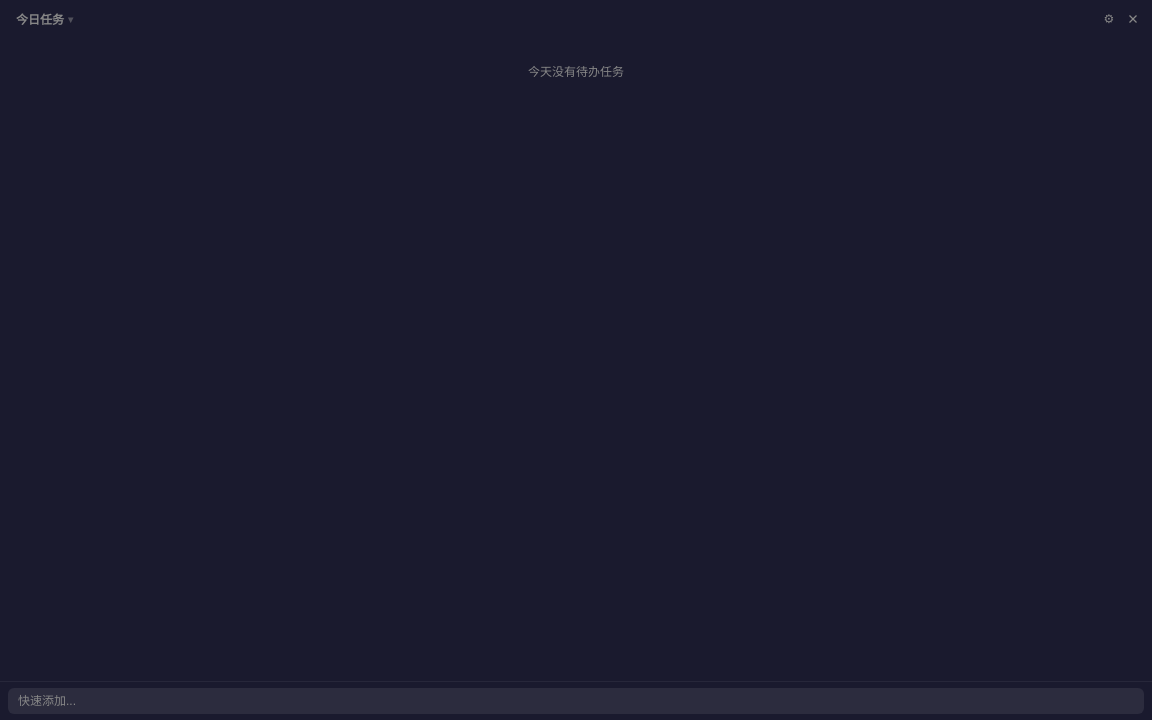
Scenario: WidgetView.vue › filter › shows filter dropdown when clicking filter label
What coordinates should you click on to do the following:
click the element with class "filter-dropdown"
I would click on:
 (44, 20)
Its box is top-left (16, 13), bottom-right (73, 27).
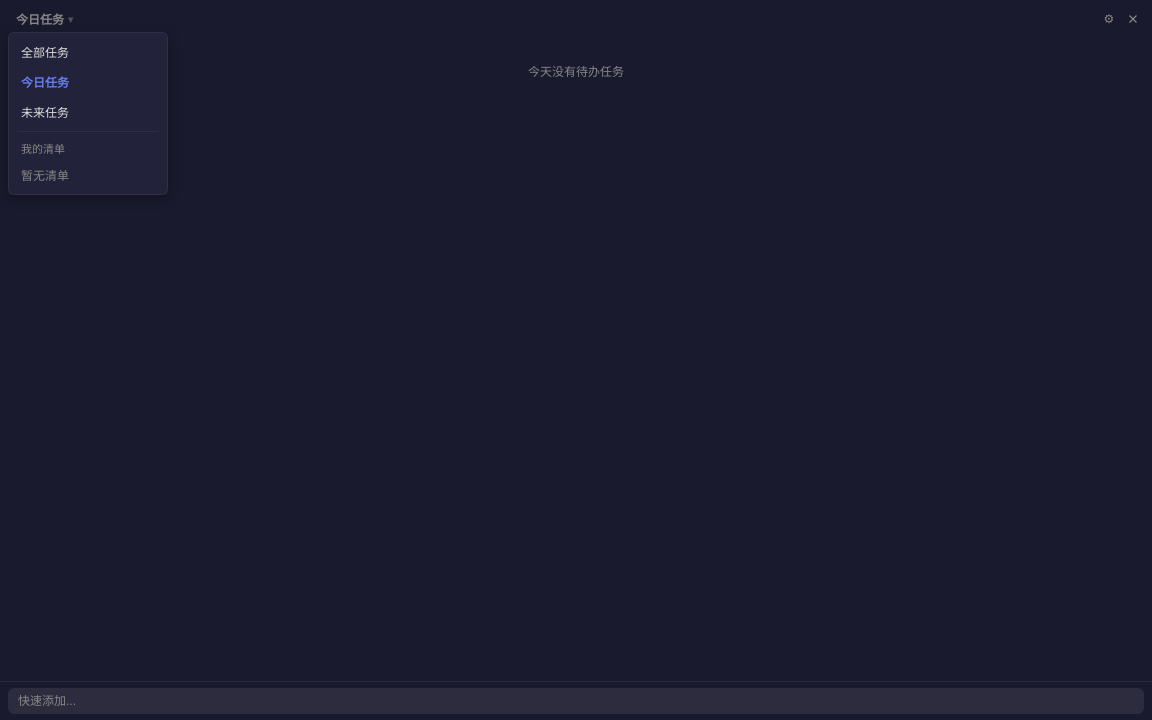
Now the element with class "filter-menu" is shown, box top-left (8, 32), bottom-right (168, 195)
